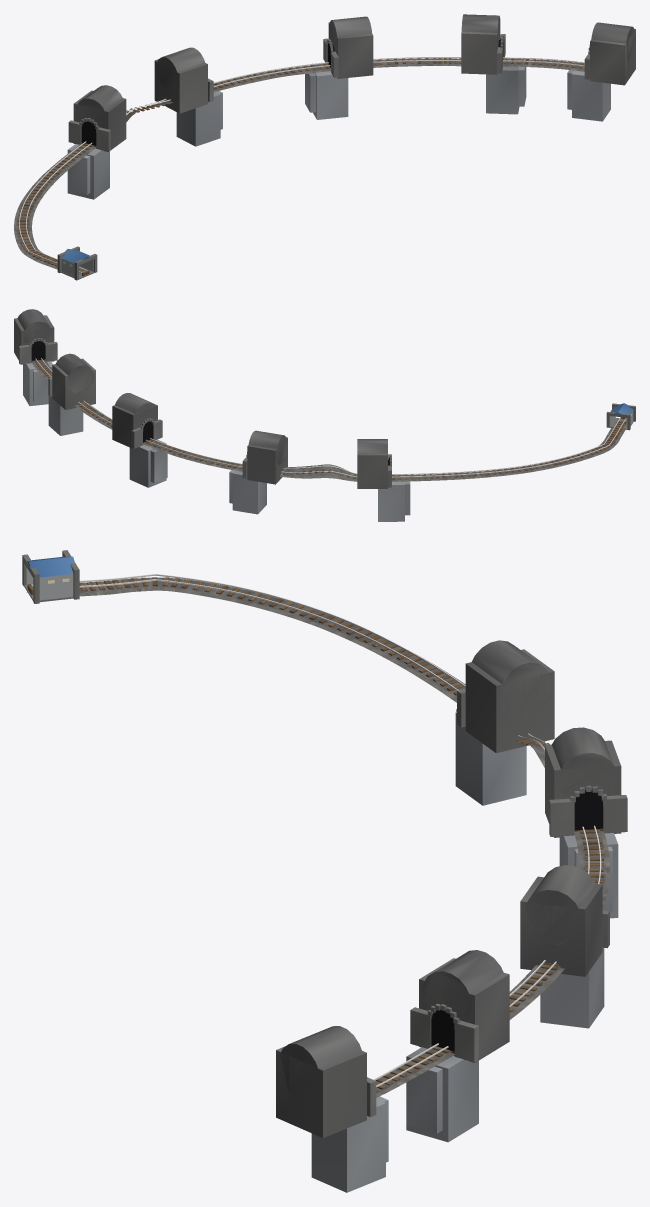
The model's file is Rail_P1.fbx.
3 renders of one model, top to bottom at view 1: azimuth 30°, elevation 25°; view 2: azimuth 150°, elevation 25°; view 3: azimuth 270°, elevation 25°, orthographic. The views are drawn at different scales.
Parts seen in each view (by area): view 1: Rail.PortalOut1, Rail.PortalIn1, Rail.PortalOut0, Rail.Portal, Rail.PortalIn0, Rail.Bed, Rail.Sleepers, Rail.Ballast, Rail.Shed, Rail.Rail.001, Rail.Rail; view 2: Rail.PortalOut0, Rail.PortalIn1, Rail.PortalIn0, Rail.Portal, Rail.PortalOut1, Rail.Bed, Rail.Sleepers, Rail.Ballast, Rail.Rail, Rail.Rail.001, Rail.Shed; view 3: Rail.PortalIn0, Rail.Portal, Rail.PortalOut1, Rail.PortalOut0, Rail.PortalIn1, Rail.Bed, Rail.Sleepers, Rail.Ballast, Rail.Shed, Rail.Rail, Rail.Rail.001.
Boxes of the visible parts, x1,y1,x2,y2 form: Rail.PortalOut1: (67,85,126,199); Rail.PortalIn1: (154,47,222,146); Rail.PortalOut0: (305,16,373,119); Rail.Portal: (567,22,635,121); Rail.PortalIn0: (461,14,526,114); Rail.Bed: (16,58,584,274); Rail.Sleepers: (17,58,583,271); Rail.Ballast: (14,58,584,269); Rail.Shed: (57,246,97,280); Rail.Rail.001: (26,60,584,270); Rail.Rail: (19,57,584,273); Rail.PortalOut0: (112,393,167,487); Rail.PortalIn1: (229,430,287,514); Rail.PortalIn0: (48,353,95,435); Rail.Portal: (14,309,57,405); Rail.PortalOut1: (357,439,410,521); Rail.Bed: (33,360,626,480); Rail.Sleepers: (35,360,626,479); Rail.Ballast: (31,360,625,481); Rail.Rail: (35,358,626,477); Rail.Rail.001: (41,358,620,474); Rail.Shed: (606,403,635,430); Rail.PortalIn0: (406,950,509,1142); Rail.Portal: (276,1026,388,1192); Rail.PortalOut1: (455,640,554,805); Rail.PortalOut0: (520,865,609,1028); Rail.PortalIn1: (545,727,627,918); Rail.Bed: (79,577,605,1093); Rail.Sleepers: (79,577,603,1092); Rail.Ballast: (26,577,609,1097); Rail.Shed: (22,550,79,603); Rail.Rail: (31,574,601,1087); Rail.Rail.001: (79,579,589,1080).
Size of the model in its own units: 37930 by 5191 by 17860.
